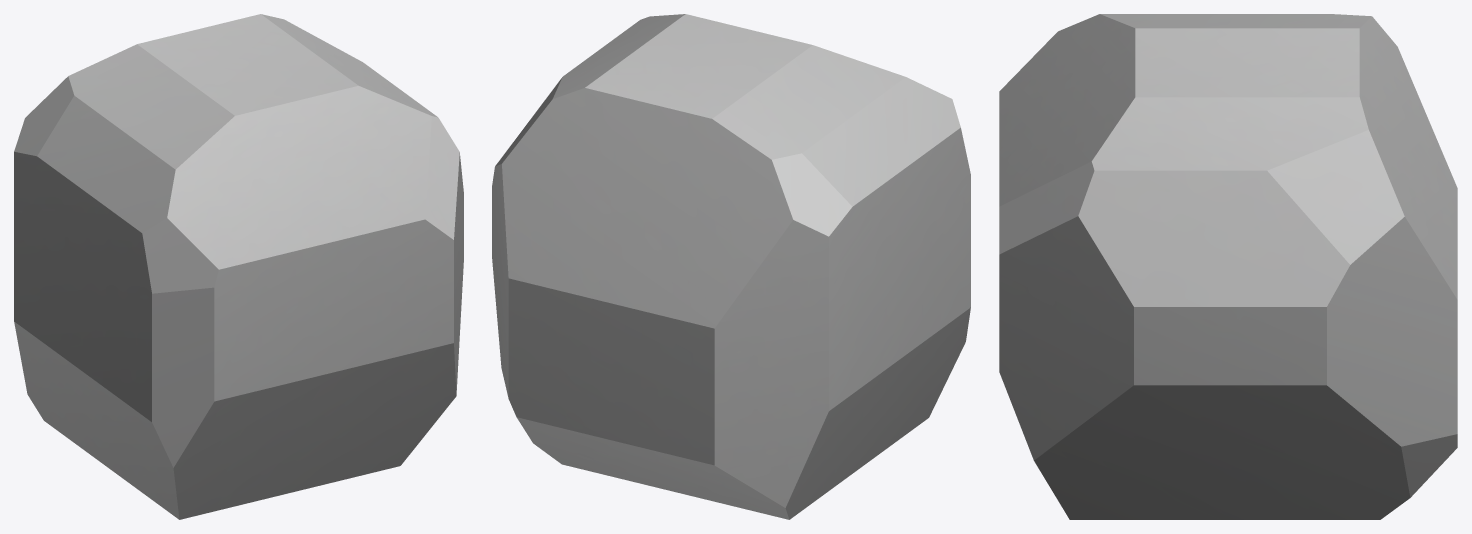
Rendered from Ore_Piece_01.fbx.
3 renders of one model, left to right at view 1: azimuth 30°, elevation 25°; view 2: azimuth 150°, elevation 25°; view 3: azimuth 270°, elevation 25°, orthographic. The views are drawn at different scales.
Visible parts, largest first — view 1: Ore_Piece_01; view 2: Ore_Piece_01; view 3: Ore_Piece_01.
Part boxes in pixels (x1,y1,x2,y2): Ore_Piece_01: (14, 14, 463, 519); Ore_Piece_01: (492, 14, 970, 519); Ore_Piece_01: (999, 14, 1457, 519).
Size of the model in its own units: 0.5288 by 0.5288 by 0.5288.
